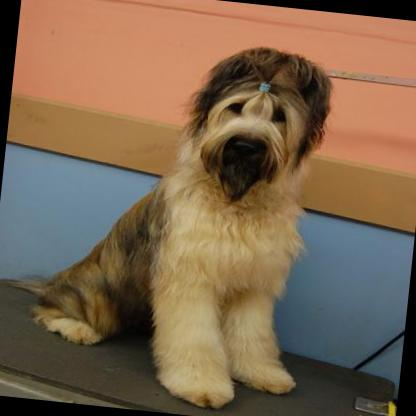briard: (0, 20, 335, 416)
